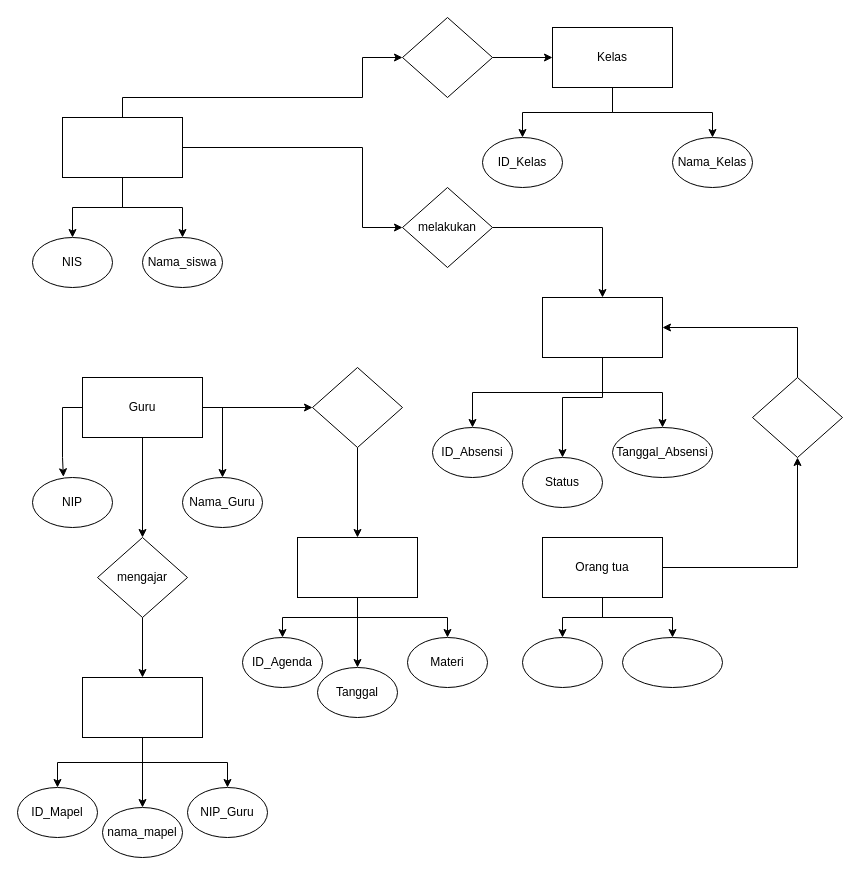
This 860x875 diagram has some shape labels left out. The shapes that lost their labels are listed below. From the top down, each one's centre as x and y in pixels, then its label:
At (x=447, y=57): "tercatat".
At (x=122, y=147): "Siswa".
At (x=602, y=327): "Absensi".
At (x=357, y=407): "mencatat".
At (x=797, y=417): "melihat".
At (x=357, y=567): "Agenda".
At (x=562, y=662): "NIK".
At (x=672, y=662): "Nama_Orangtua".
At (x=142, y=707): "Mapel".
